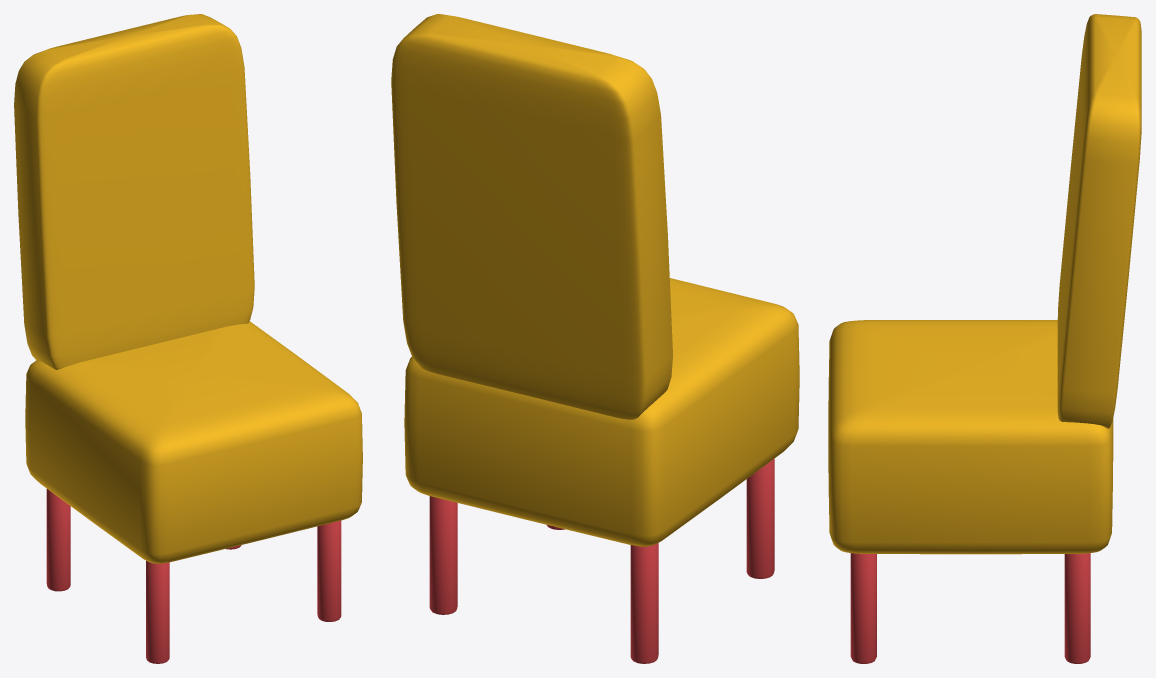
The model's file is cadeira_jantar_alta_amarela.glb.
The picture shows the model from 3 angles, left to right: view 1: azimuth 30°, elevation 25°; view 2: azimuth 150°, elevation 25°; view 3: azimuth 270°, elevation 25°; orthographic projection. The views are drawn at different scales.
Parts seen in each view (by area): view 1: cadeira_jantar_alta_amarela; view 2: cadeira_jantar_alta_amarela; view 3: cadeira_jantar_alta_amarela.
Boxes of the visible parts, <box> form: cadeira_jantar_alta_amarela: <box>14,14,362,663</box>; cadeira_jantar_alta_amarela: <box>391,14,799,663</box>; cadeira_jantar_alta_amarela: <box>828,14,1141,663</box>.
Size of the model in its own units: 0.46 by 1.04 by 0.5279.
1 material, 1 textured.
